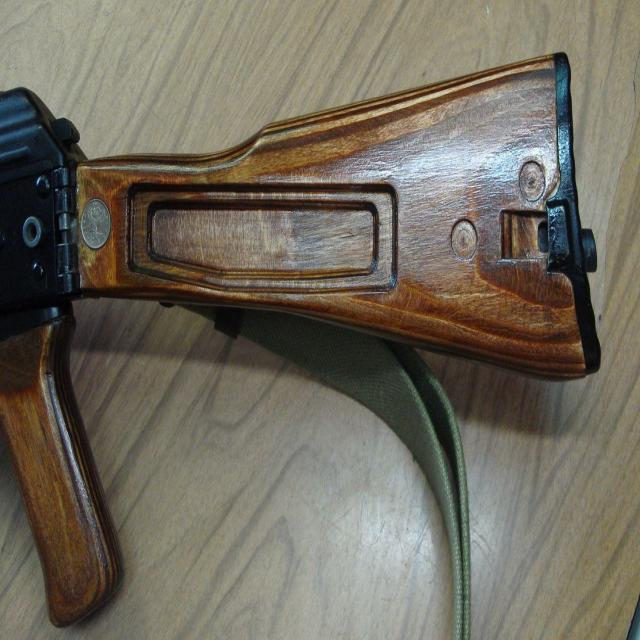firearm: (0, 47, 604, 627)
